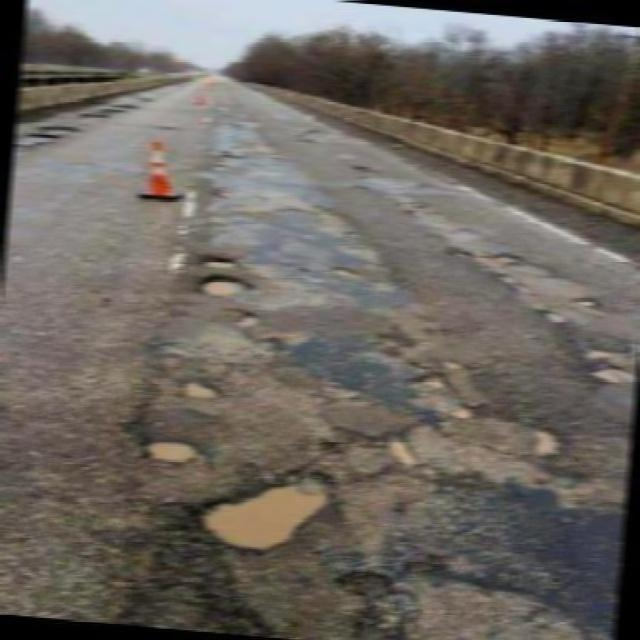Pothole: (339, 559, 599, 640), (184, 461, 348, 563), (2, 118, 85, 149), (378, 426, 427, 470), (196, 272, 258, 303), (138, 436, 204, 465), (77, 99, 144, 126), (178, 375, 229, 404), (405, 372, 451, 397), (591, 365, 640, 387), (531, 424, 562, 458), (447, 402, 488, 423), (210, 182, 243, 205), (539, 305, 567, 329), (573, 290, 603, 312), (490, 247, 524, 266), (198, 254, 237, 270), (335, 264, 366, 280), (445, 243, 472, 261), (134, 99, 158, 102)
